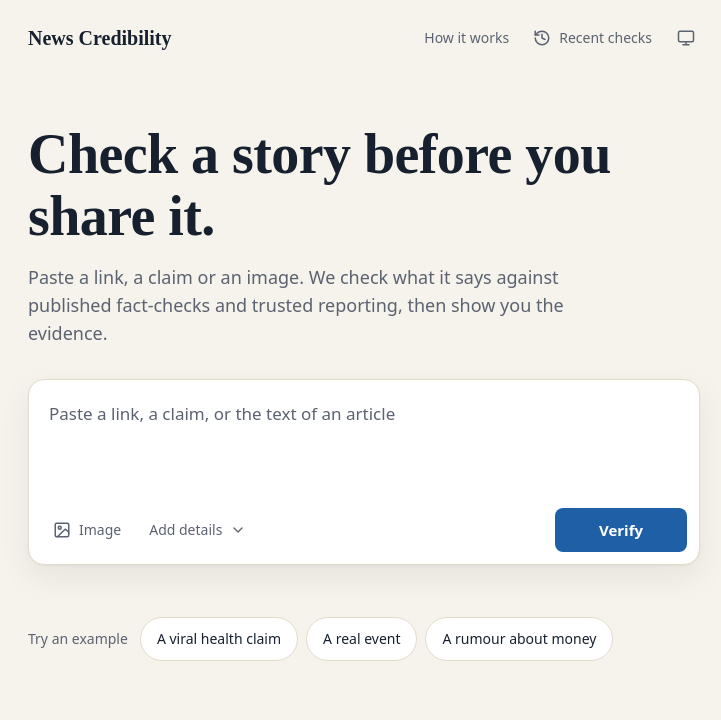
Scenario: the app shell › moves between pages without reloading
Step 1. Click the link "How it works" → (467, 38), box [424,28,509,47]
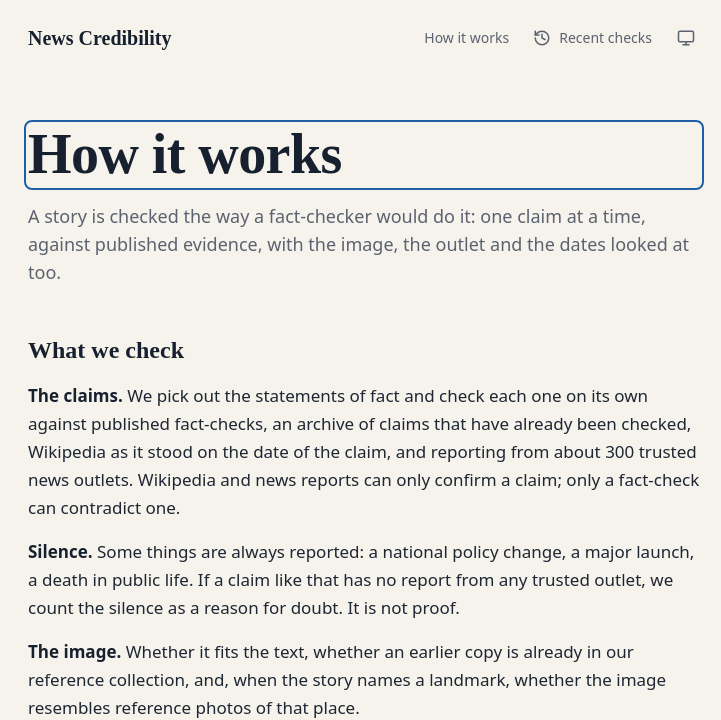
Result: the heading "How it works" is shown at [28,123,342,185]
Step 2. Click the link "News Credibility" → (100, 38), box [28,27,172,49]
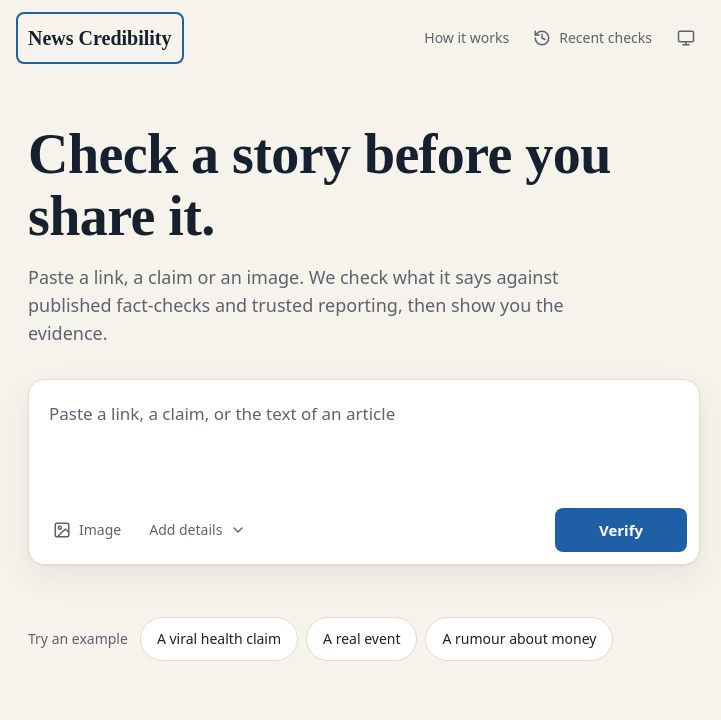
Result: the heading "Check a story before you share it." is shown at [28,124,700,247]
